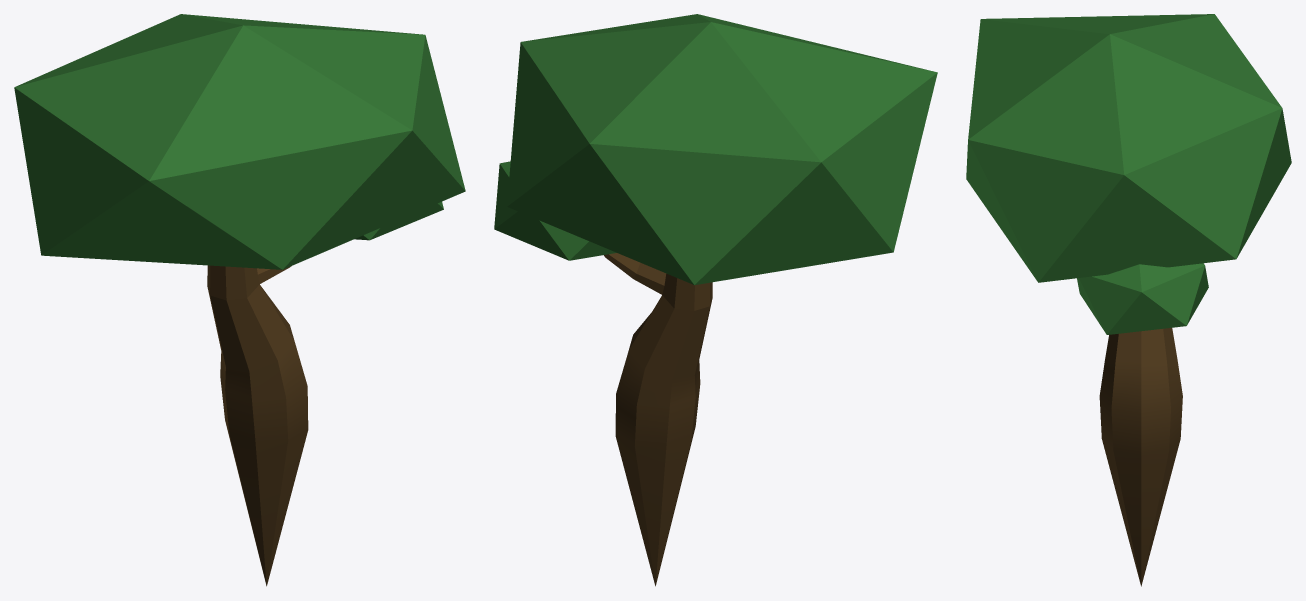
File: Tree01.fbx
The picture shows the model from 3 angles, left to right: view 1: azimuth 30°, elevation 25°; view 2: azimuth 150°, elevation 25°; view 3: azimuth 270°, elevation 25°; orthographic projection. The views are drawn at different scales.
Parts seen in each view (by area): view 1: Tree01; view 2: Tree01; view 3: Tree01.
Boxes of the visible parts, <box> form: Tree01: <box>14,14,465,586</box>; Tree01: <box>494,14,937,586</box>; Tree01: <box>966,14,1291,586</box>.
Size of the model in its own units: 703 by 986 by 544.
